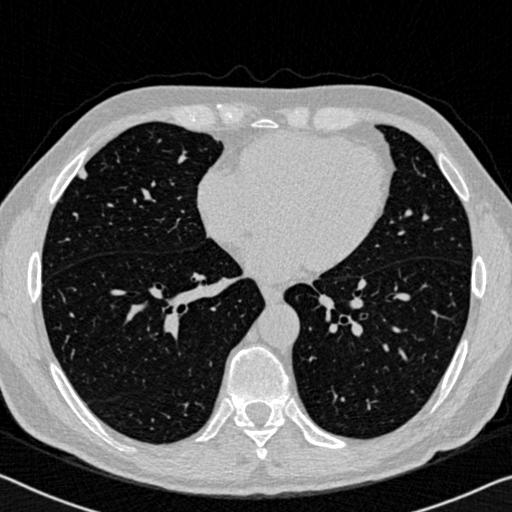nodule: (76, 167, 90, 181)
